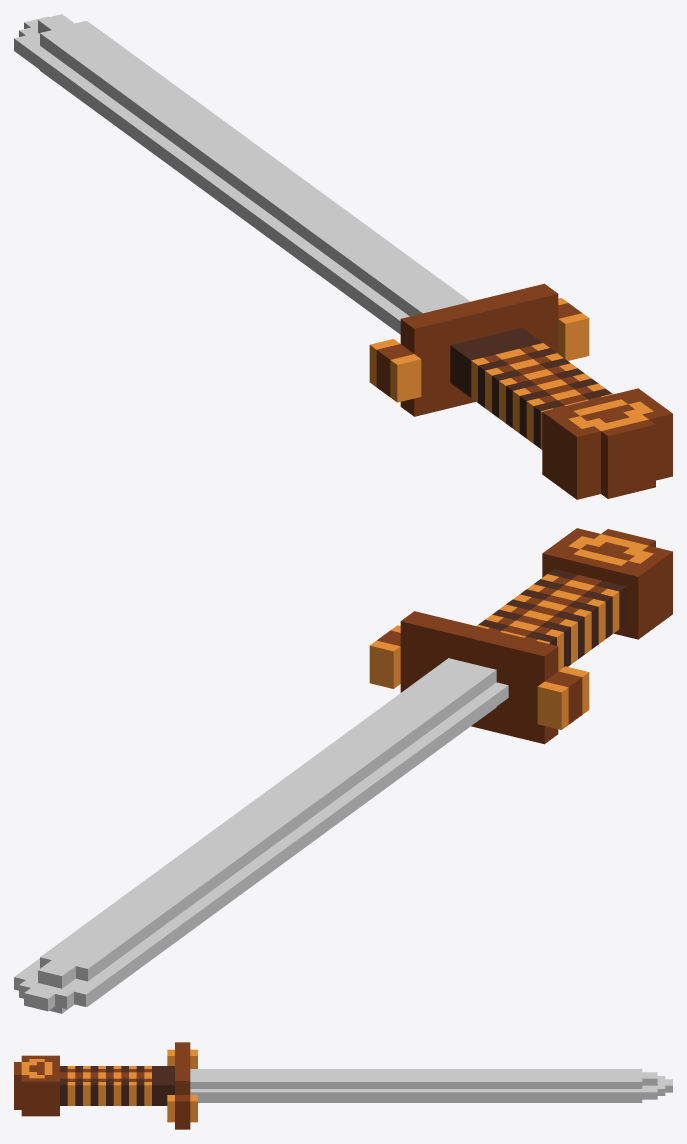
Rendered from Voxel Universe Objects-26.obj.
3 renders of one model, top to bottom at view 1: azimuth 30°, elevation 25°; view 2: azimuth 150°, elevation 25°; view 3: azimuth 270°, elevation 25°, orthographic. The views are drawn at different scales.
Bounding box in the file's own units: 1.6 × 0.7 × 8.6.
Materials: 1 (1 with a texture image).
